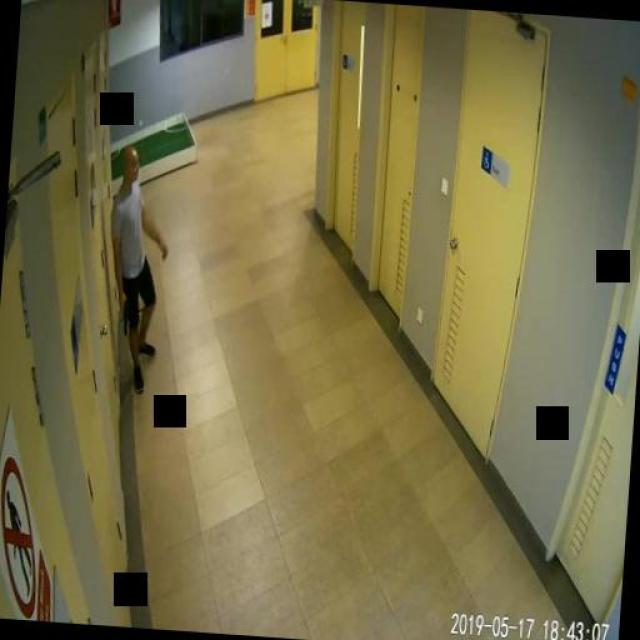gun: (115, 294, 129, 338)
